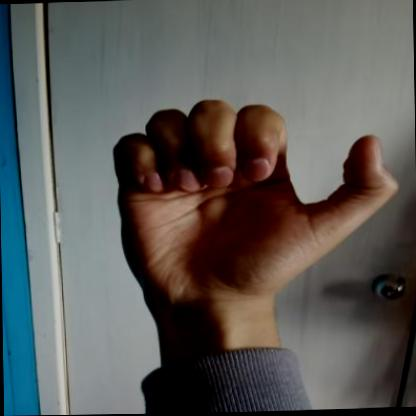E: (82, 86, 410, 318)
